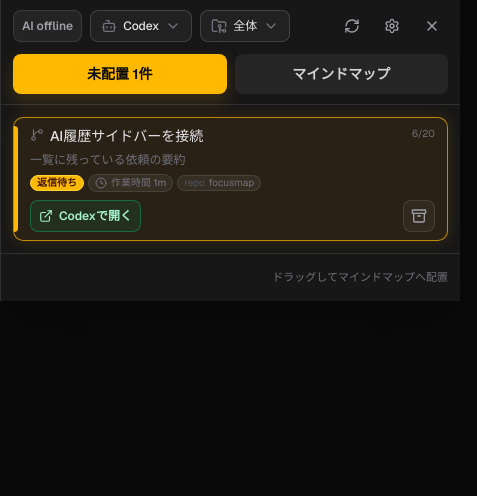
Test: CodexChatImportSidebar › keeps cache or snippet visible while hydrate is required and shows offline update state
Click the button with test id "codex-chat-import-row-history-1".
click(230, 179)  # box [13, 117, 448, 241]
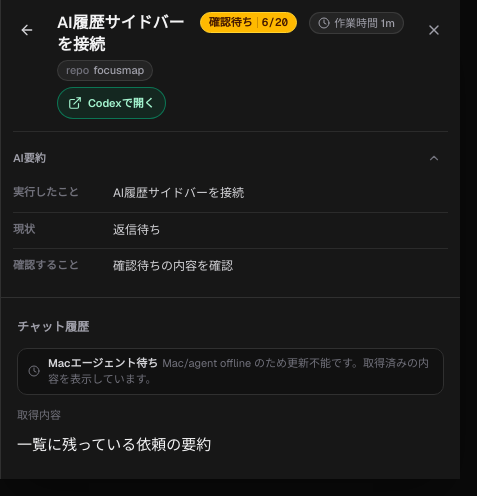
Expected: the text "一覧に残っている依頼の要約" is shown, [17, 435, 211, 454]
Expected: the text "Macエージェント待ち" is shown, [48, 356, 158, 370]
Expected: the text "Mac/agent offline のため更新不能です。取得済みの内容を表示しています。" is shown, [48, 356, 429, 386]
